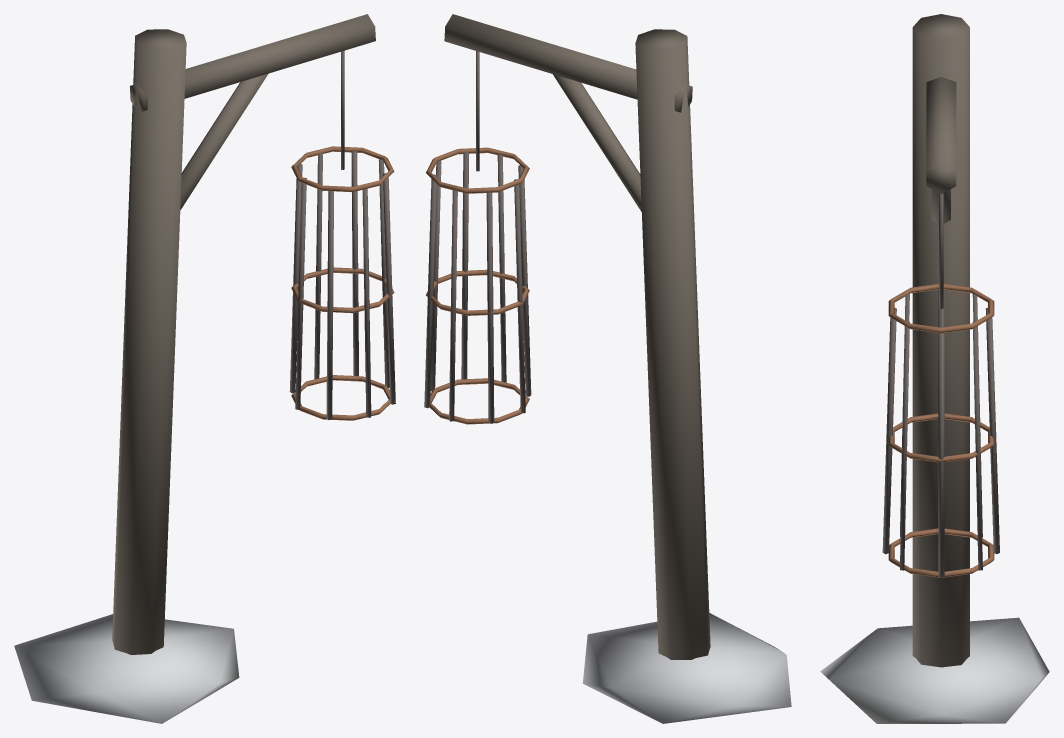
File: gibbet.glb
3 renders of one model, left to right at view 1: azimuth 30°, elevation 25°; view 2: azimuth 150°, elevation 25°; view 3: azimuth 270°, elevation 25°, orthographic. The views are drawn at different scales.
Parts seen in each view (by area): view 1: gibbet; view 2: gibbet; view 3: gibbet.
Boxes of the visible parts, x1=… form: gibbet: x1=14, y1=14, x2=395, y2=723; gibbet: x1=424, y1=14, x2=791, y2=723; gibbet: x1=820, y1=14, x2=1049, y2=723.
Size of the model in its own units: 2.79 by 4.77 by 1.45.
